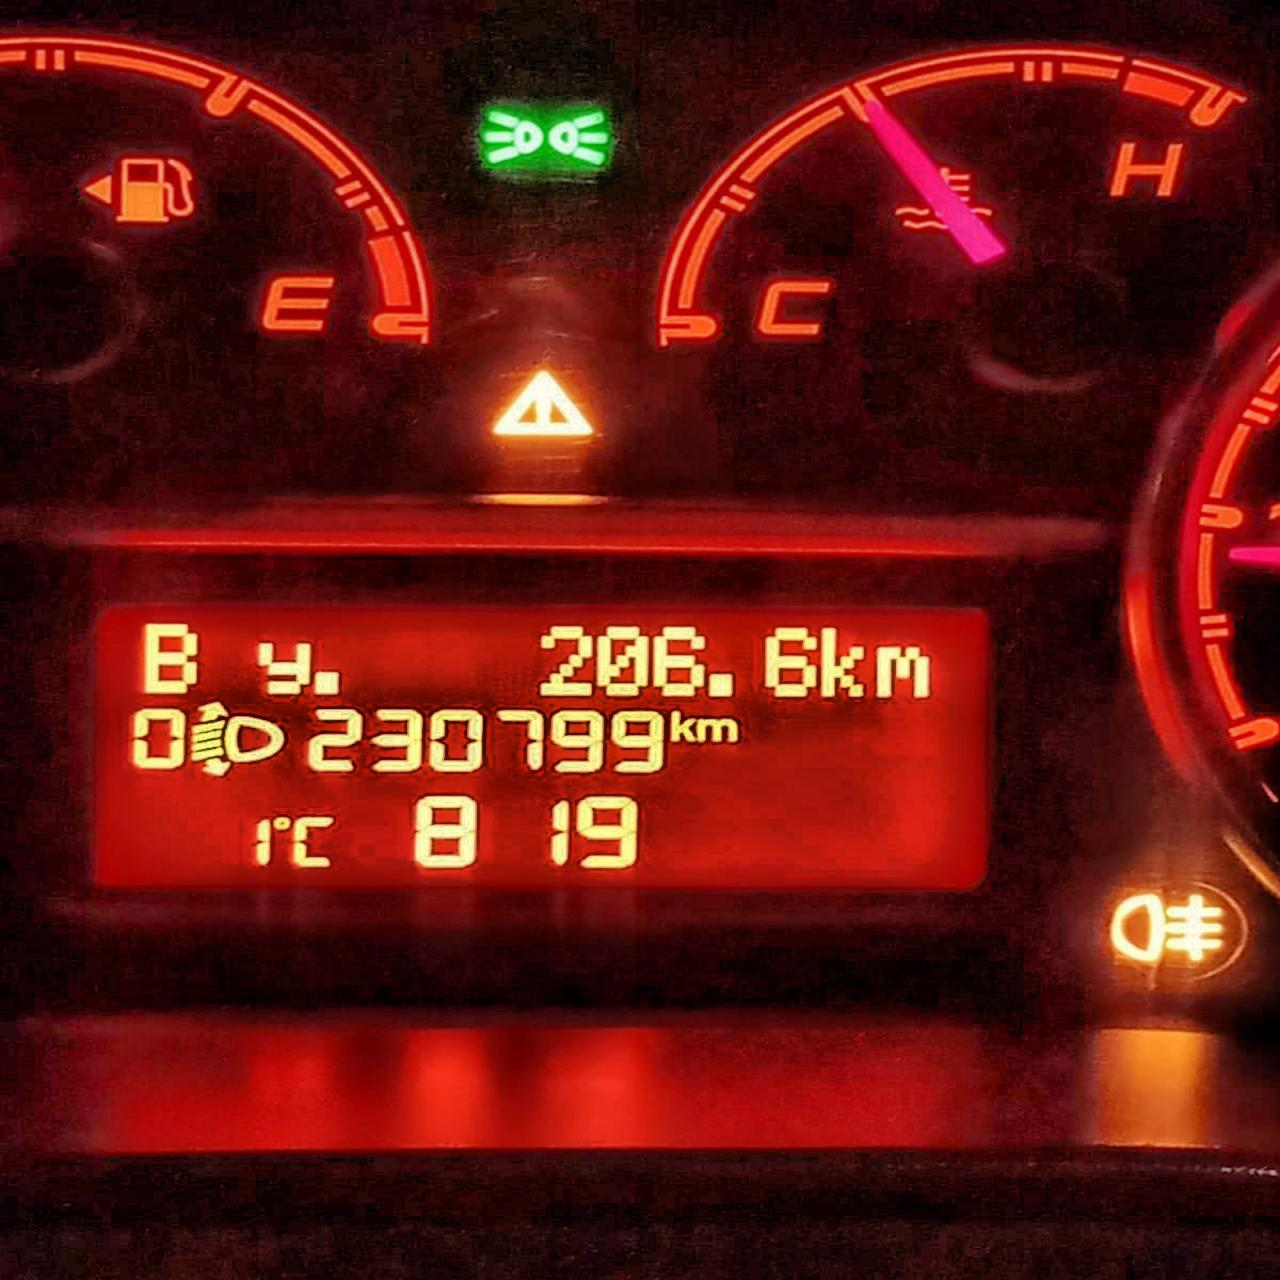-: (311, 668, 342, 696), (706, 669, 735, 699)
0: (593, 621, 651, 699), (425, 707, 488, 776), (125, 704, 185, 771)
1: (542, 797, 570, 866), (251, 815, 273, 870)
2: (530, 620, 594, 697), (302, 706, 366, 772)
3: (365, 704, 425, 775)
6: (757, 622, 819, 699), (649, 624, 706, 699)
7: (495, 707, 546, 771)
8: (410, 792, 482, 870)
9: (573, 792, 640, 871), (607, 708, 667, 775), (549, 707, 606, 776)
X: (132, 618, 204, 696), (818, 624, 869, 701), (871, 644, 933, 701), (253, 638, 312, 696), (290, 813, 335, 869), (695, 716, 741, 745), (667, 710, 696, 744)
odometer: (82, 593, 1000, 898)
